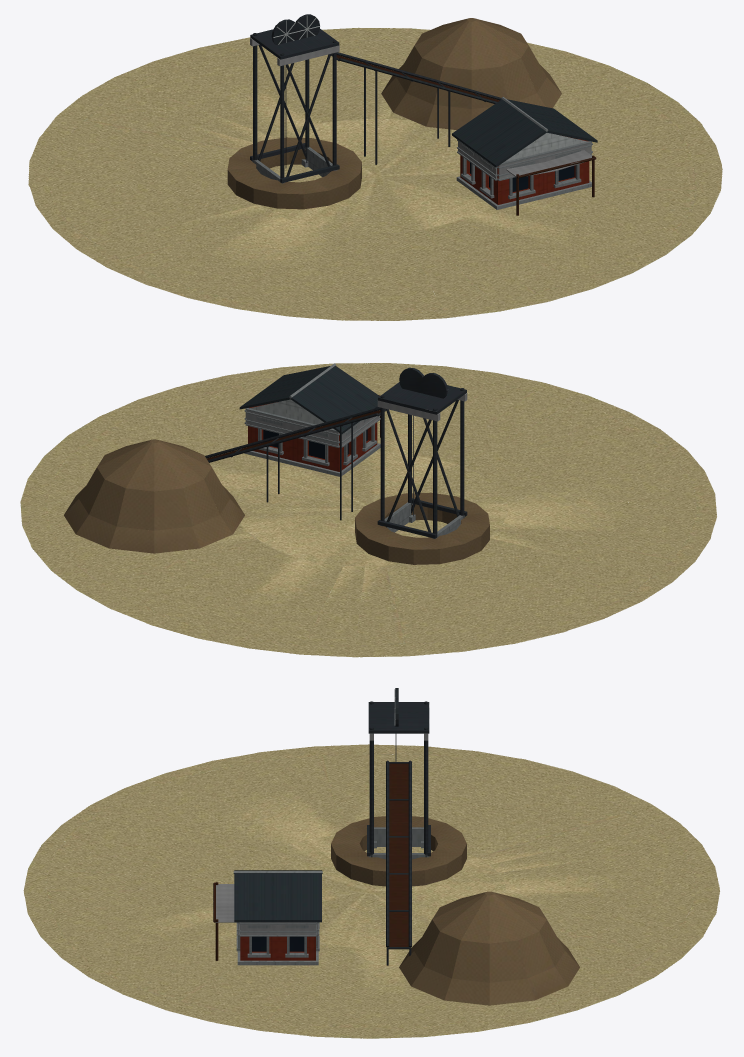
The model's file is mine-modern-fbee8e94.glb.
3 renders of one model, top to bottom at view 1: azimuth 30°, elevation 25°; view 2: azimuth 150°, elevation 25°; view 3: azimuth 270°, elevation 25°, orthographic.
Visible parts, largest first — view 1: LOD0; view 2: LOD0; view 3: LOD0.
Part boxes in pixels (x1,y1,x2,y2): LOD0: (28, 14, 722, 320); LOD0: (20, 363, 716, 657); LOD0: (23, 688, 719, 1038).
Size of what is drawn, in the model's own units: 4.74 by 1.2 by 4.74.
Materials: 3 (3 with a texture image).
